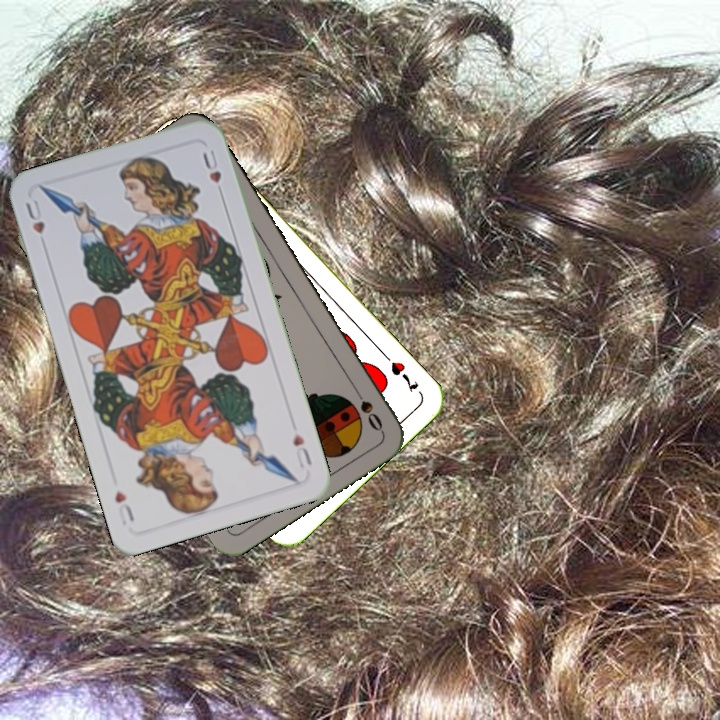H7: (378, 349, 422, 395)
HU: (21, 195, 48, 237), (289, 429, 315, 471)
SO: (348, 381, 386, 434)
